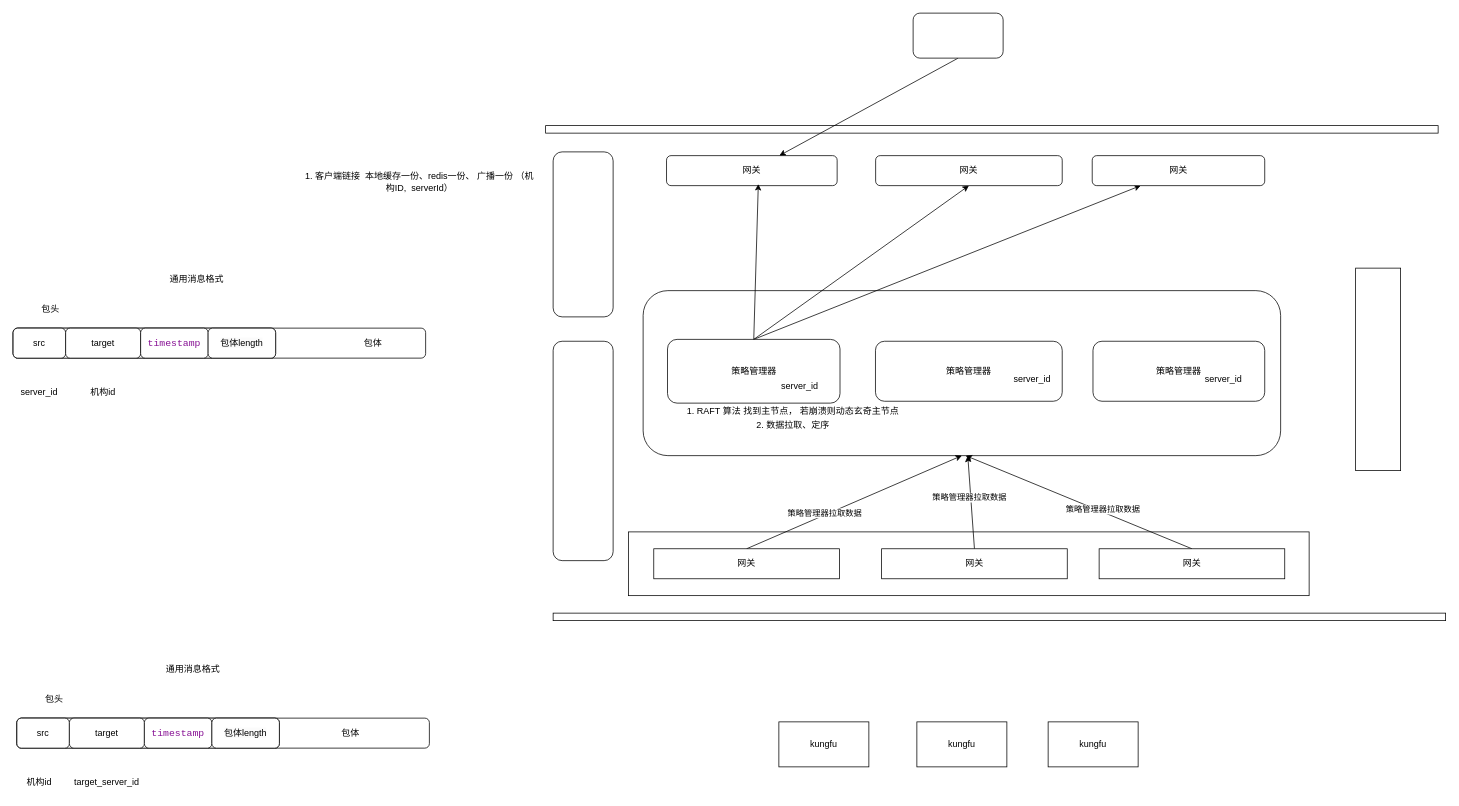
Image size: 1459x806. Some labels were removed from this diagram. Here are the shapes that lost their labels. From the top down, the centre of each, then its label:
At (957,35): "客户端".
At (582,234): "Redis集群".
At (1378,369): "事件总线".
At (582,450): "ZK集群".
